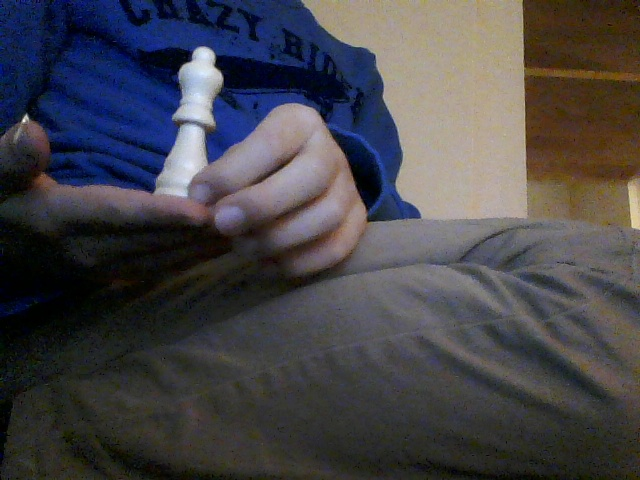schaak: (152, 46, 223, 198)
